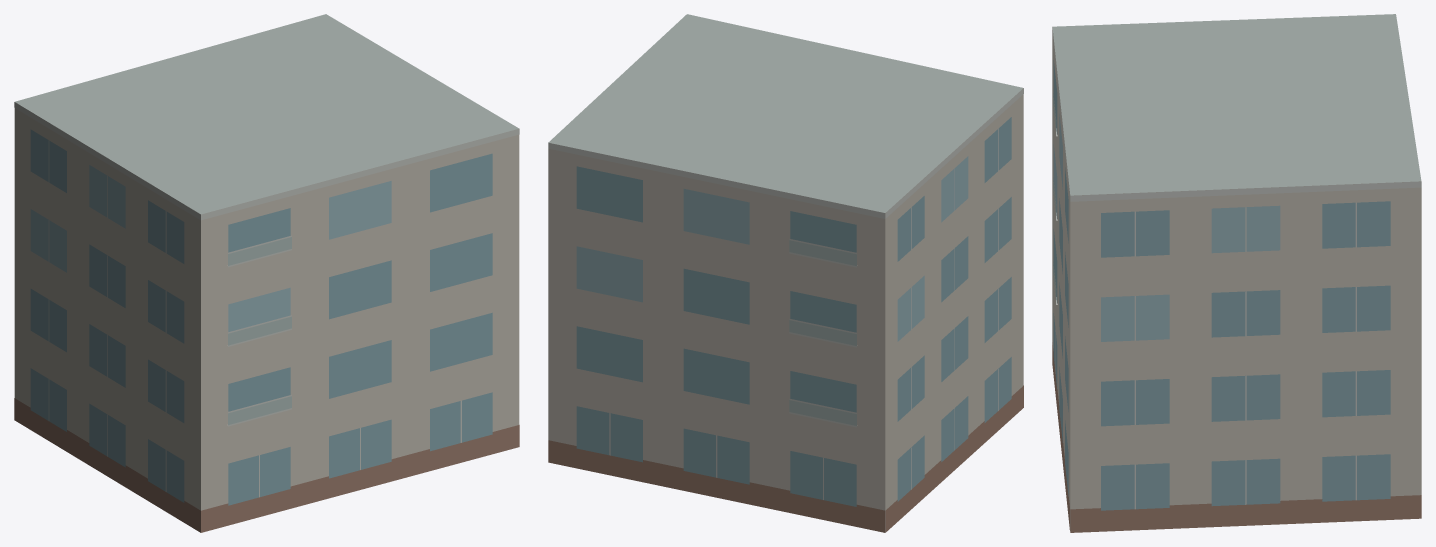
Rendered from survey-upis-32825746.glb.
3 renders of one model, left to right at view 1: azimuth 30°, elevation 25°; view 2: azimuth 150°, elevation 25°; view 3: azimuth 270°, elevation 25°, orthographic. The views are drawn at different scales.
Visible parts, largest first — view 1: survey-upis-32825746.tmp; view 2: survey-upis-32825746.tmp; view 3: survey-upis-32825746.tmp.
Boxes of the visible parts, bbox=[...] form: survey-upis-32825746.tmp: bbox=[14, 14, 519, 532]; survey-upis-32825746.tmp: bbox=[548, 14, 1023, 532]; survey-upis-32825746.tmp: bbox=[1052, 14, 1421, 532].
Size of the model in its own units: 15.25 by 13.2 by 13.1.
